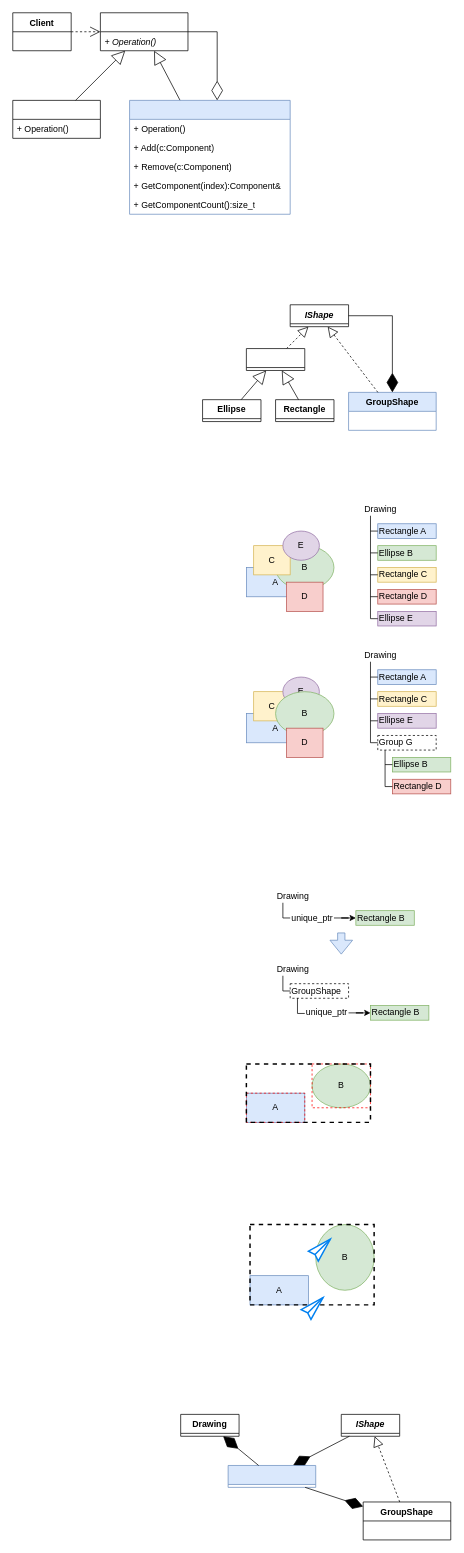
The diagram is 464 pixels wide and 1553 high, and some of its shapes have lost their labels. The shapes that lost their labels are listed below. From the top down, each one's box as (x1, y1, x2, y2) in pixels, then its label:
(100, 12, 188, 51): Component
(12, 100, 100, 138): Leaf
(129, 100, 290, 214): Composite
(246, 348, 305, 370): Shape
(307, 1238, 331, 1261): HitTest = true
(300, 1296, 323, 1320): HitTest = false
(227, 1465, 316, 1487): ShapeCollection
